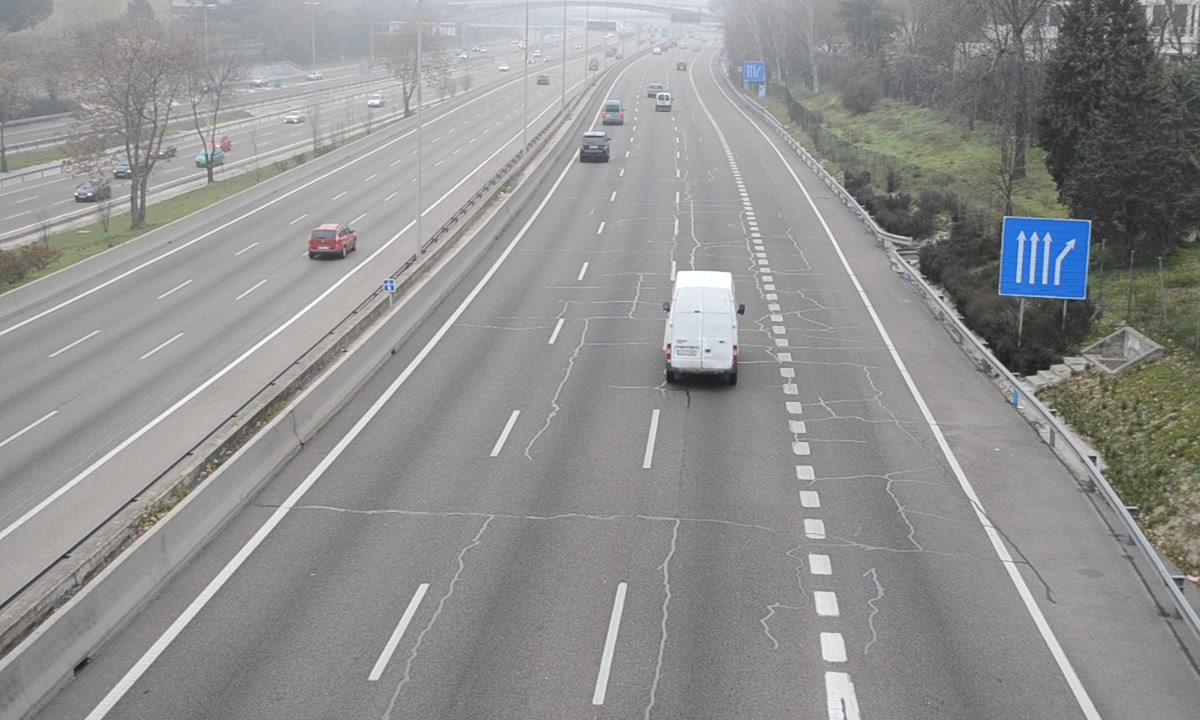car: (581, 132, 610, 161)
van: (663, 271, 739, 383), (601, 98, 623, 127)
